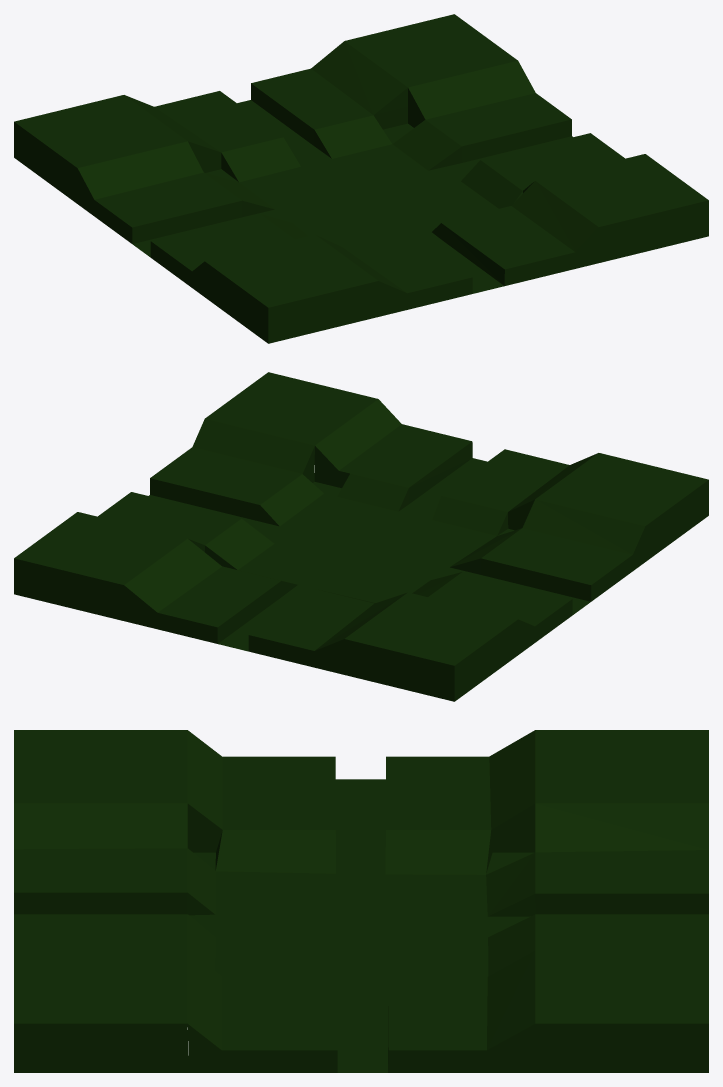
The model's file is Map.FBX.
The picture shows the model from 3 angles, top to bottom: view 1: azimuth 30°, elevation 25°; view 2: azimuth 150°, elevation 25°; view 3: azimuth 270°, elevation 25°; orthographic projection. The views are drawn at different scales.
Parts seen in each view (by area): view 1: Plane001; view 2: Plane001; view 3: Plane001.
Boxes of the visible parts, x1=… form: Plane001: x1=14, y1=14, x2=708, y2=343; Plane001: x1=14, y1=372, x2=708, y2=701; Plane001: x1=14, y1=730, x2=708, y2=1072.
Bounding box in the file's own units: 1024 × 80 × 1024.
